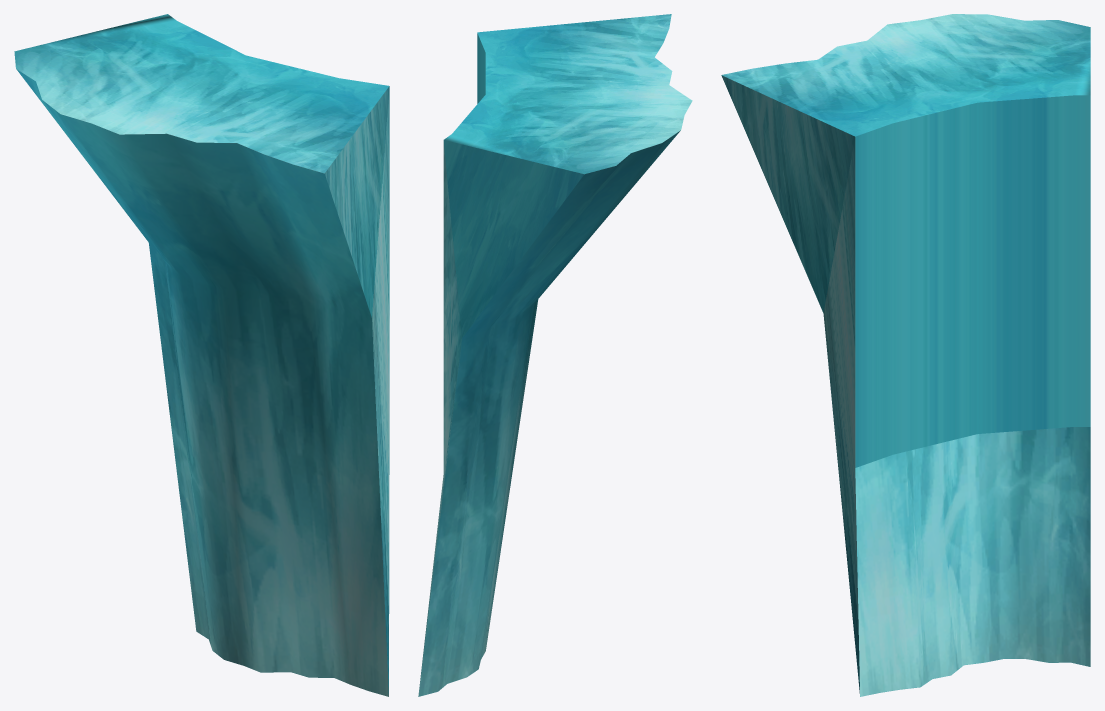
The model's file is ic_arthas_iceshard04.obj.
The picture shows the model from 3 angles, left to right: view 1: azimuth 30°, elevation 25°; view 2: azimuth 150°, elevation 25°; view 3: azimuth 270°, elevation 25°; orthographic projection. The views are drawn at different scales.
Visible parts, largest first — view 1: IC_arthas_iceshard04; view 2: IC_arthas_iceshard04; view 3: IC_arthas_iceshard04.
Part boxes in pixels (x1,y1,x2,y2): IC_arthas_iceshard04: (14, 14, 389, 696); IC_arthas_iceshard04: (418, 14, 692, 696); IC_arthas_iceshard04: (721, 14, 1090, 696).
Bounding box in the file's own units: 39.08 × 82.47 × 49.37.
